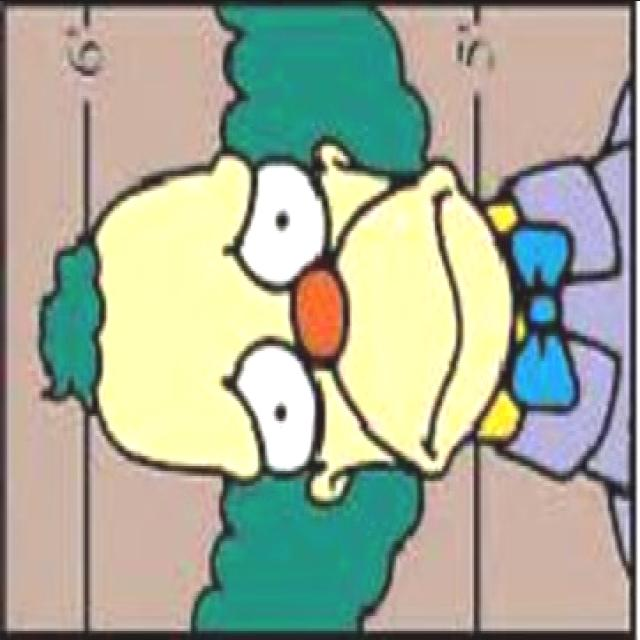Krusty the Clown: (36, 0, 554, 640)
